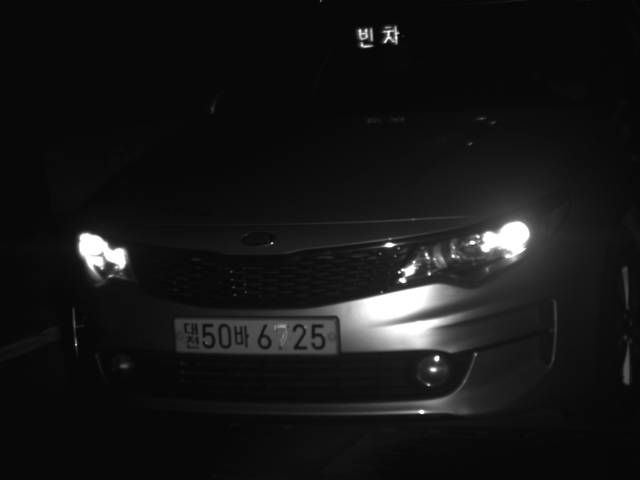car: (53, 1, 639, 426)
plate: (172, 315, 341, 356)
